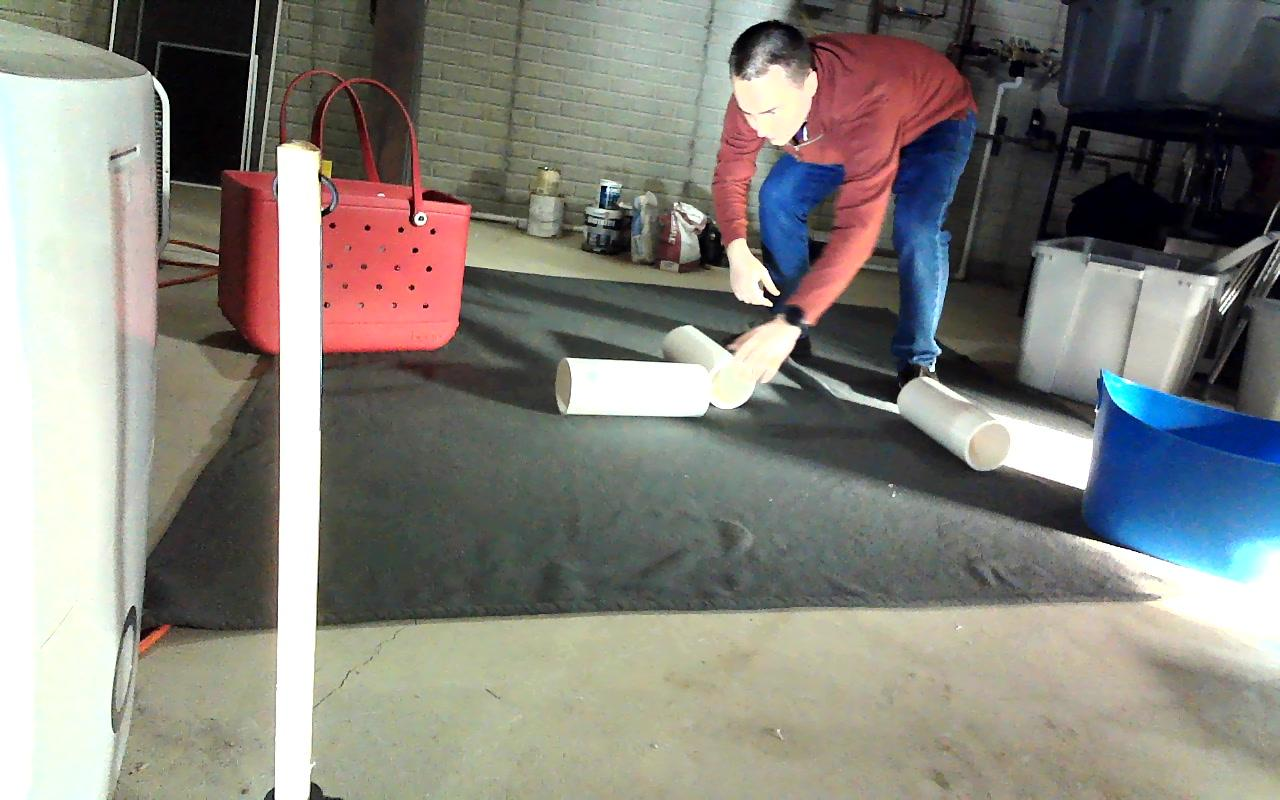coral: (895, 375, 1010, 469), (554, 355, 712, 417), (662, 325, 756, 409)
